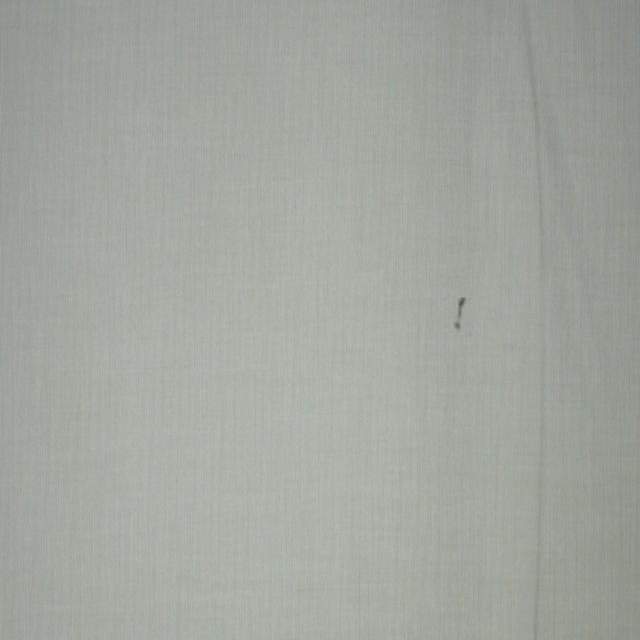dirty: (454, 298, 465, 328), (464, 330, 474, 340)
